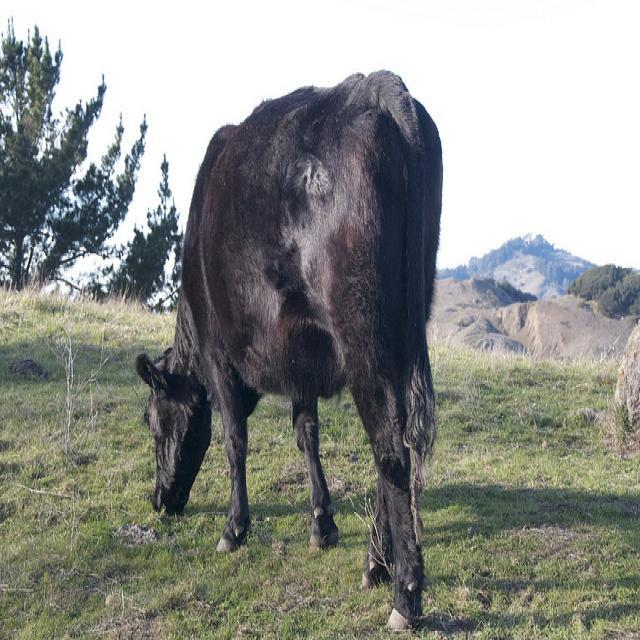cow: (137, 69, 444, 628)
